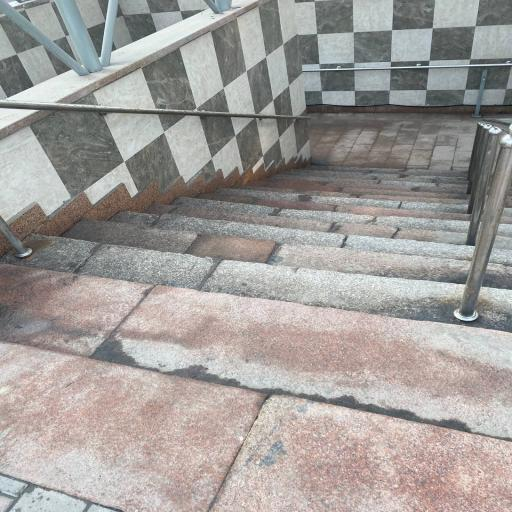sofa: (0, 166, 511, 510)
